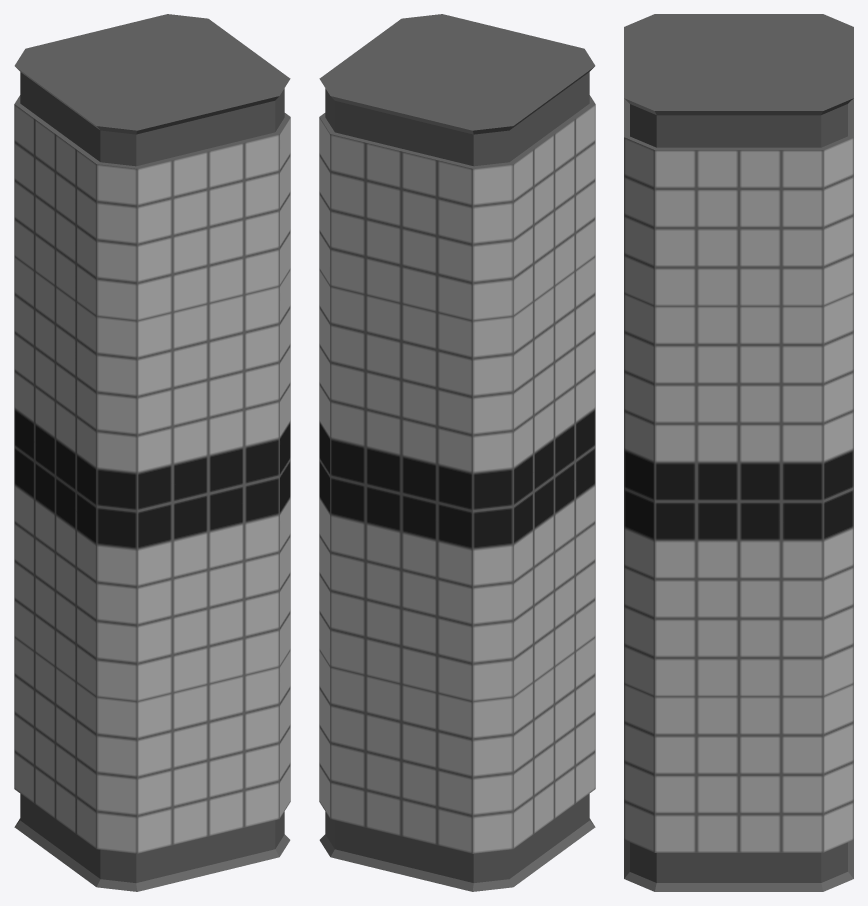
File: SW_ENV_PillarTiled_Variant02.fbx
The picture shows the model from 3 angles, left to right: view 1: azimuth 30°, elevation 25°; view 2: azimuth 150°, elevation 25°; view 3: azimuth 270°, elevation 25°; orthographic projection. The views are drawn at different scales.
Parts seen in each view (by area): view 1: SW_ENV_PillarTiled_Variant02; view 2: SW_ENV_PillarTiled_Variant02; view 3: SW_ENV_PillarTiled_Variant02.
Part boxes in pixels (left/top/right/bottom): SW_ENV_PillarTiled_Variant02: left=14, top=14, right=290, bottom=891; SW_ENV_PillarTiled_Variant02: left=319, top=14, right=595, bottom=891; SW_ENV_PillarTiled_Variant02: left=624, top=14, right=853, bottom=891.
Bounding box in the file's own units: 80 × 300 × 80.
